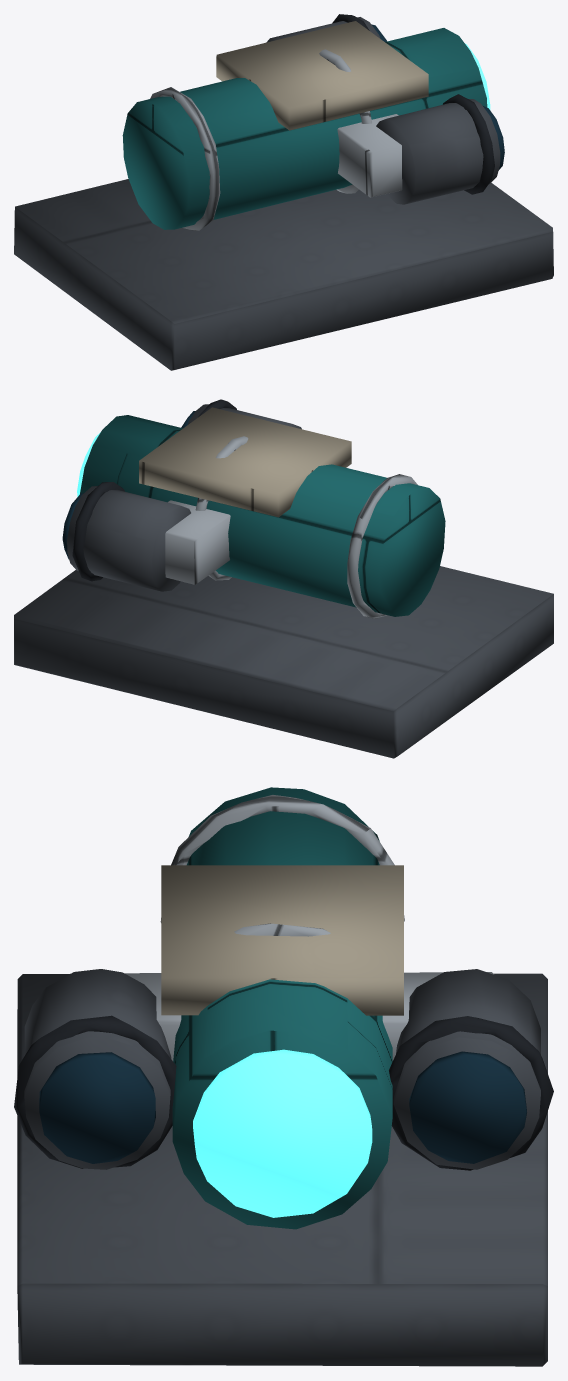
File: ops_optical_rangefinder_lod2.glb
The picture shows the model from 3 angles, top to bottom: view 1: azimuth 30°, elevation 25°; view 2: azimuth 150°, elevation 25°; view 3: azimuth 270°, elevation 25°; orthographic projection. The views are drawn at different scales.
Visible parts, largest first — view 1: LOD2_Mechanical, LOD2_Armor, LOD2_Hull, LOD2_BrushedMetal, LOD2_MechanicalDark; view 2: LOD2_Mechanical, LOD2_Armor, LOD2_Hull, LOD2_BrushedMetal, LOD2_MechanicalDark; view 3: LOD2_Mechanical, LOD2_Hull, LOD2_Armor, LOD2_Lights_Cyan, LOD2_CANOPY, LOD2_MechanicalDark, LOD2_BrushedMetal.
Boxes of the visible parts, x1,y1,x2,y2 form: LOD2_Mechanical: [14, 17, 553, 370]; LOD2_Armor: [122, 28, 487, 229]; LOD2_Hull: [216, 21, 428, 130]; LOD2_BrushedMetal: [150, 49, 402, 230]; LOD2_MechanicalDark: [332, 14, 494, 194]; LOD2_Mechanical: [14, 404, 553, 758]; LOD2_Armor: [80, 415, 445, 616]; LOD2_Hull: [139, 407, 351, 517]; LOD2_BrushedMetal: [165, 436, 417, 618]; LOD2_MechanicalDark: [72, 399, 236, 581]; LOD2_Mechanical: [17, 969, 547, 1366]; LOD2_Hull: [161, 865, 403, 1015]; LOD2_Armor: [172, 787, 392, 1229]; LOD2_Lights_Cyan: [193, 1049, 372, 1217]; LOD2_CANOPY: [39, 1051, 526, 1163]; LOD2_MechanicalDark: [14, 1015, 553, 1170]; LOD2_BrushedMetal: [70, 795, 494, 1060].
Bounding box in the file's own units: 1.79 × 0.889 × 1.31.
7 materials, 5 textured.
